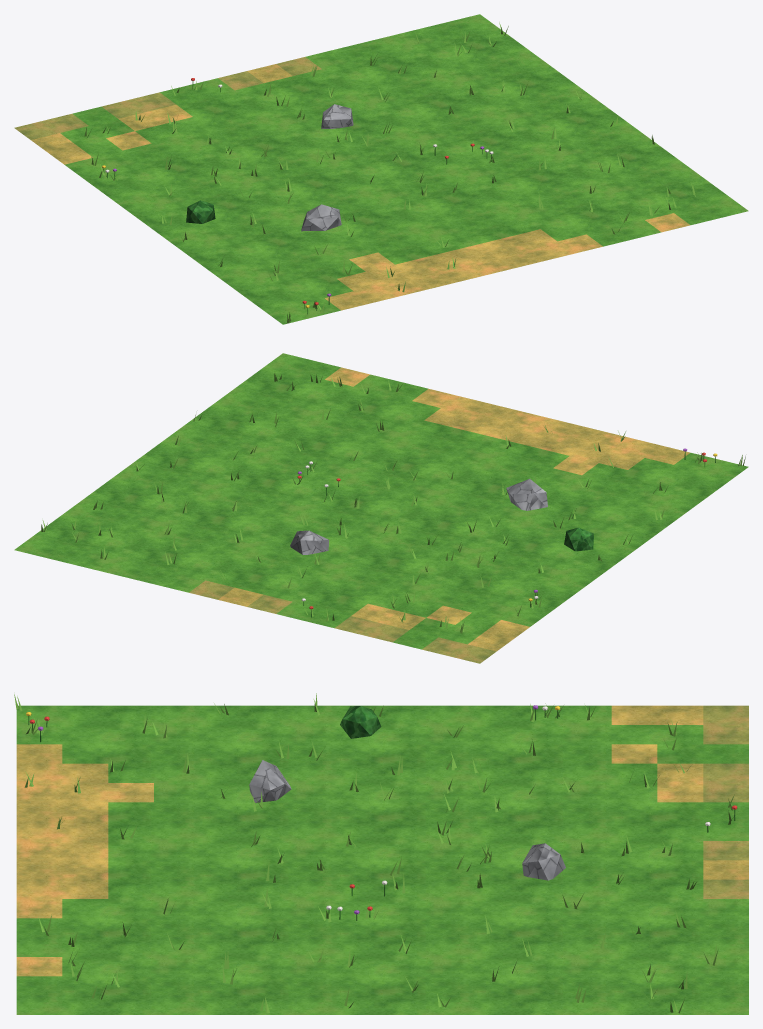
File: chunk_8_7.glb
The picture shows the model from 3 angles, top to bottom: view 1: azimuth 30°, elevation 25°; view 2: azimuth 150°, elevation 25°; view 3: azimuth 270°, elevation 25°; orthographic projection. The views are drawn at different scales.
Parts seen in each view (by area): view 1: chunk_8_7; view 2: chunk_8_7; view 3: chunk_8_7.
Part boxes in pixels (<box>): chunk_8_7: <box>14,14,748,324</box>; chunk_8_7: <box>14,353,748,663</box>; chunk_8_7: <box>14,693,748,1014</box>.
Bounding box in the file's own units: 16.02 × 1.19 × 16.06.
11 materials, 6 textured.
